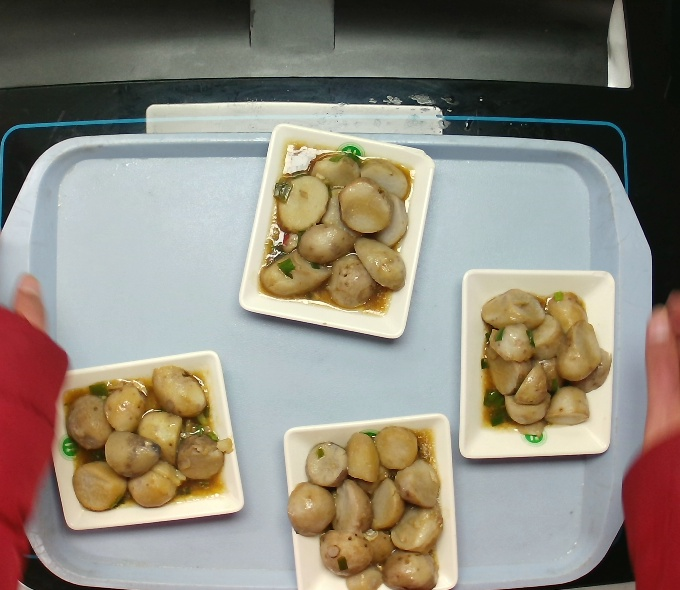wcq-YuTou: (253, 134, 421, 321), (56, 360, 238, 516), (283, 422, 446, 590), (476, 286, 619, 441)
